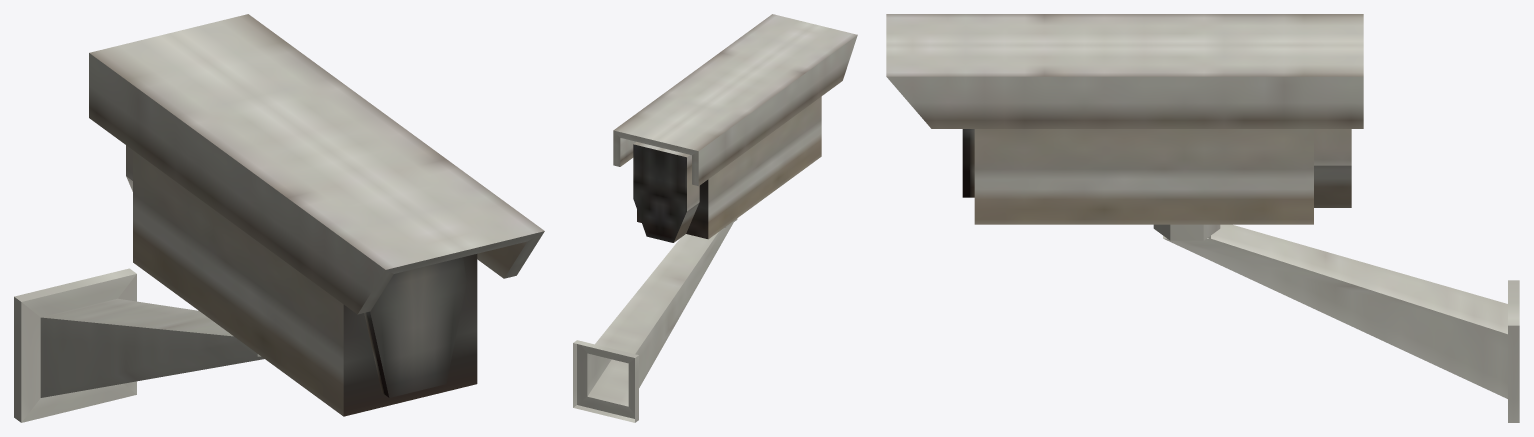
Rendered from Camera01.obj.
The picture shows the model from 3 angles, left to right: view 1: azimuth 30°, elevation 25°; view 2: azimuth 150°, elevation 25°; view 3: azimuth 270°, elevation 25°; orthographic projection. The views are drawn at different scales.
Visible parts, largest first — view 1: Camera01.Case, Camera01.Base; view 2: Camera01.Case, Camera01.Base; view 3: Camera01.Case, Camera01.Base.
Boxes of the visible parts, x1=… form: Camera01.Case: x1=89, y1=14, x2=544, y2=416; Camera01.Base: x1=14, y1=268, x2=264, y2=422; Camera01.Case: x1=613, y1=14, x2=857, y2=242; Camera01.Base: x1=573, y1=218, x2=737, y2=422; Camera01.Case: x1=886, y1=14, x2=1363, y2=224; Camera01.Base: x1=1153, y1=224, x2=1519, y2=422.
Bounding box in the file's own units: 0.155 × 0.4102 × 0.6634.
